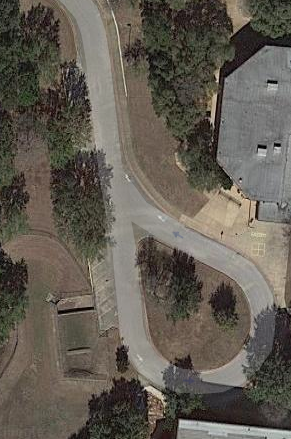soccer: (50, 295, 110, 381)
